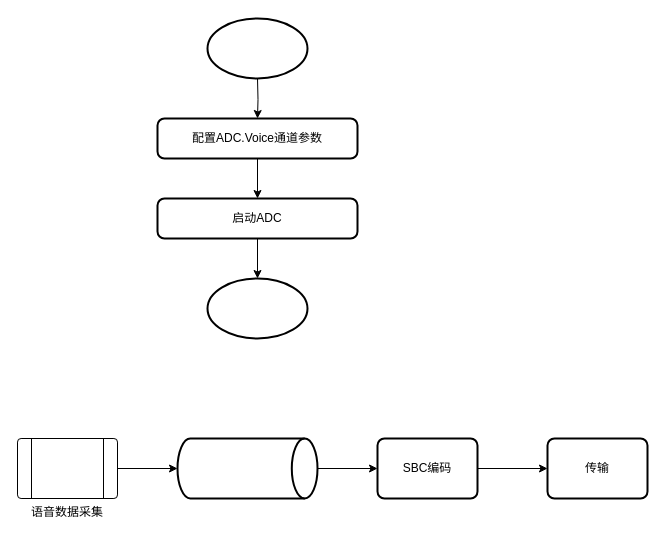
The diagram is 666 pixels wide and 536 high, and some of its shapes have lost their labels. The shapes that lost their labels are listed below. From the top down, each one's centre as x and y in pixels, then its label:
point 257,48: 启动语音
point 257,308: 结束
point 247,468: 语音 FIFO
